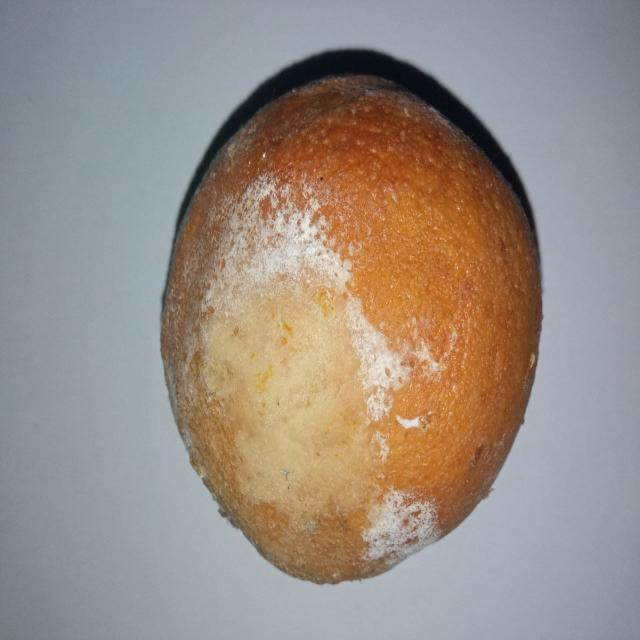rotten_orange: (158, 73, 538, 588)
